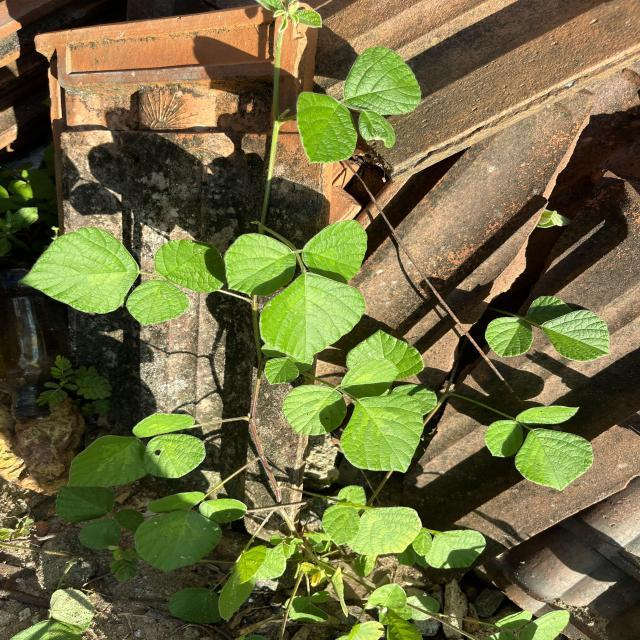Pseudarthria viscida: (222, 218, 370, 366), (16, 225, 228, 327), (281, 357, 425, 475), (66, 411, 208, 487), (483, 404, 595, 492), (484, 295, 612, 363)
